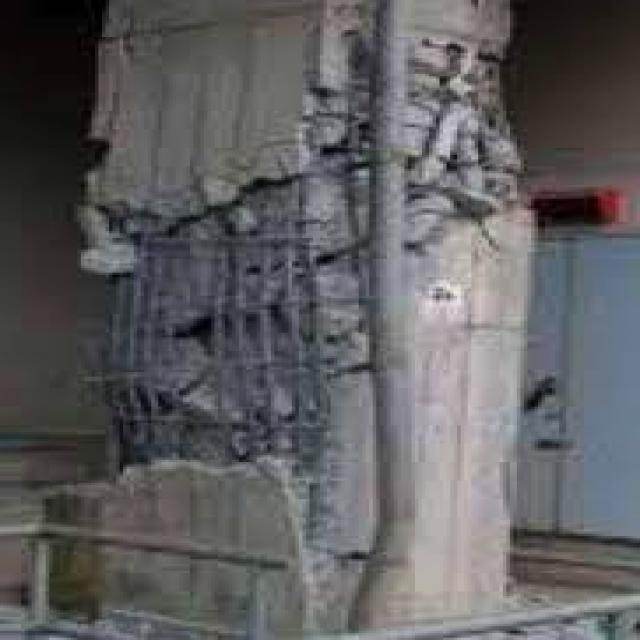Buckling_Beam: (11, 0, 586, 640)
